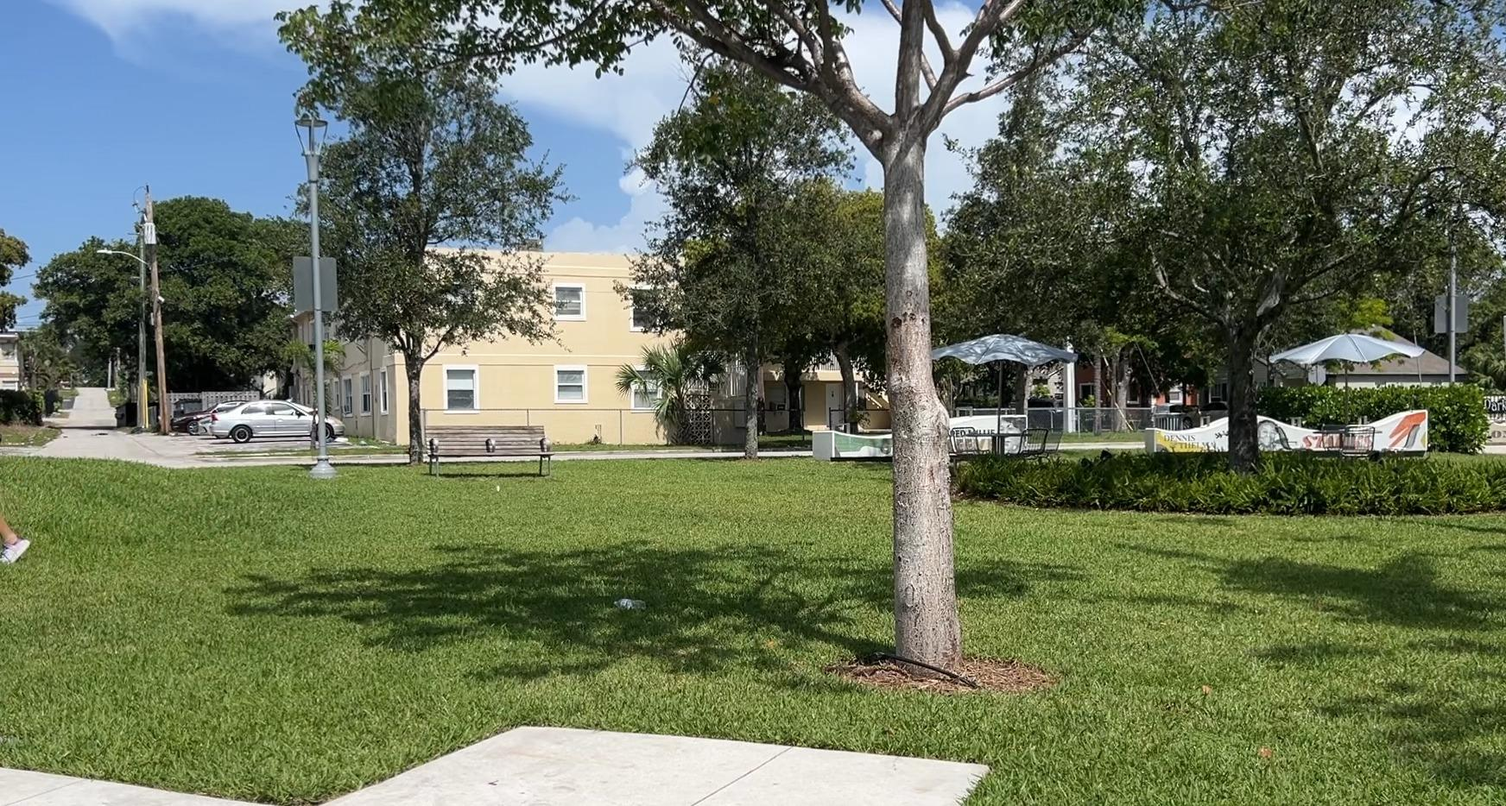Trash: (601, 584, 659, 628)
